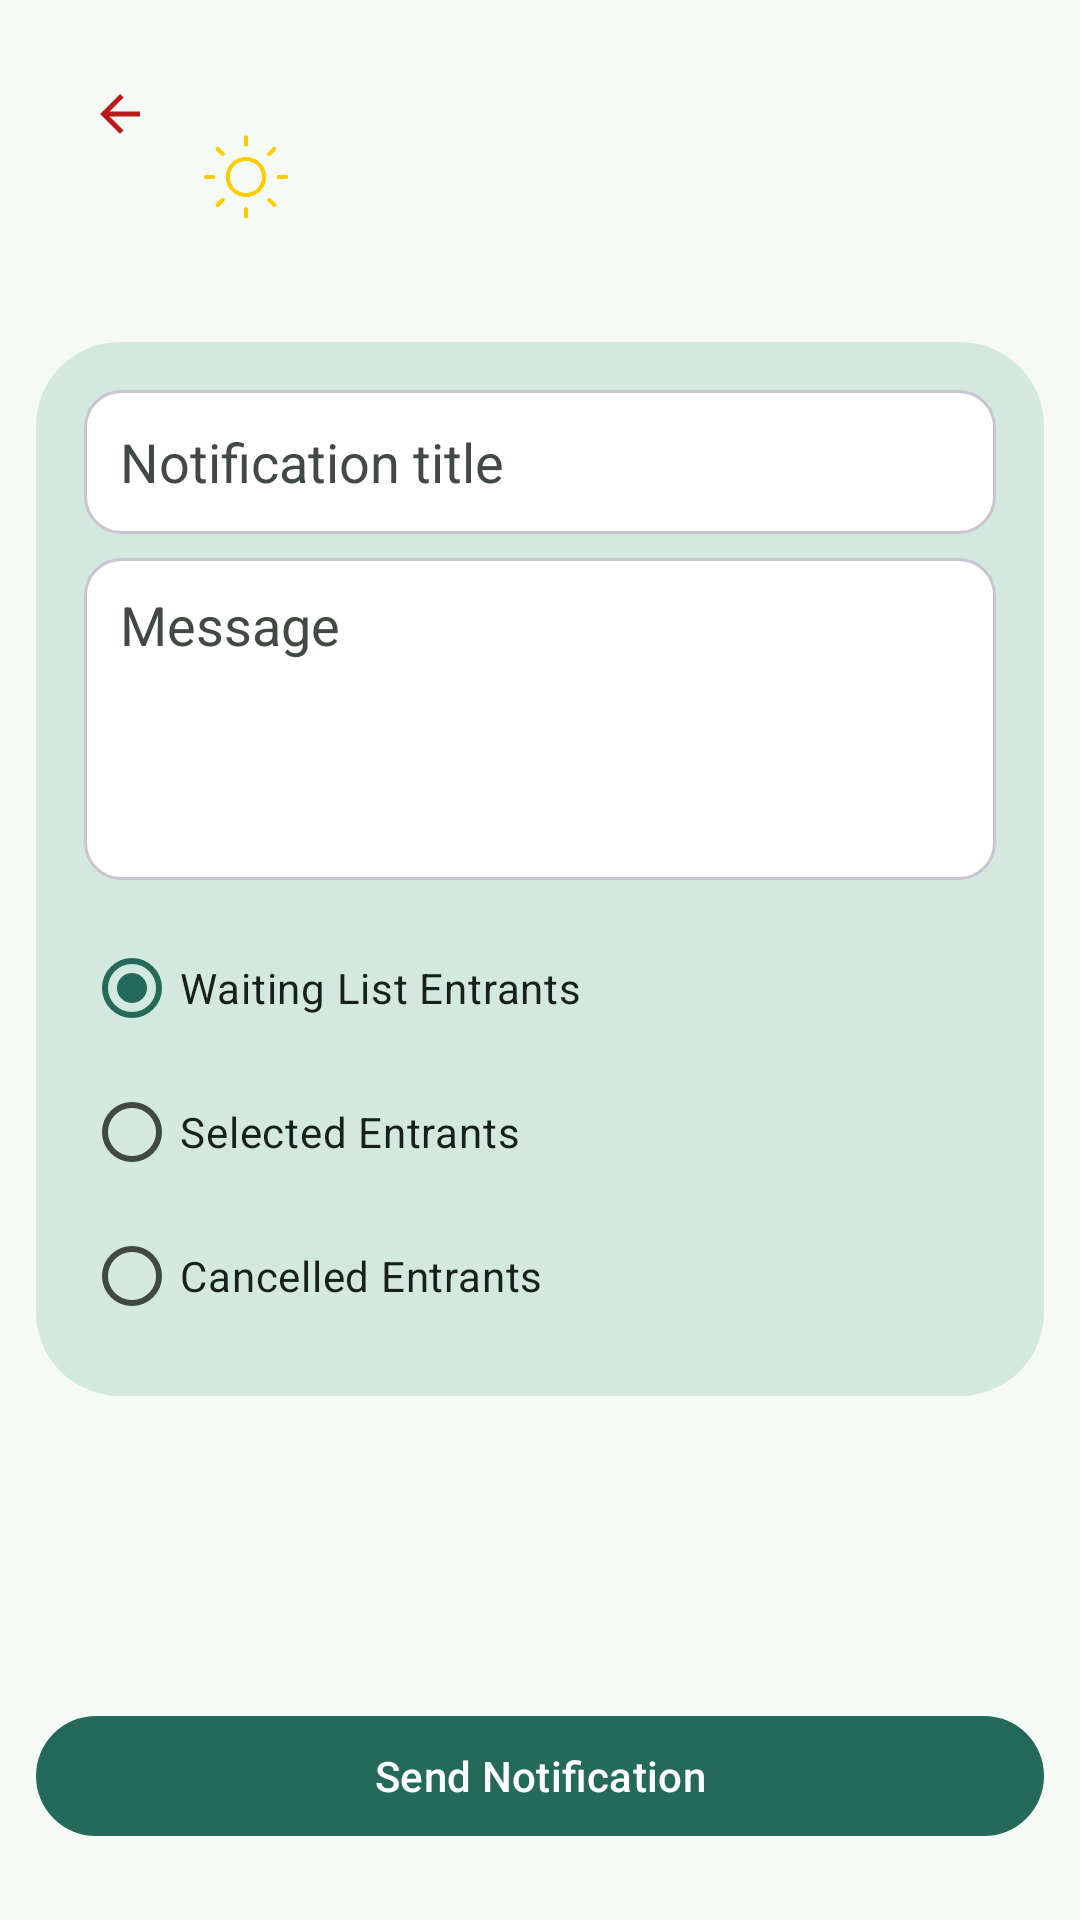

Locate icon controls on the screen. Image size 1080x1920, boxes as (x1, y1, x2, y2).
arrow back: (100, 94, 140, 134)
